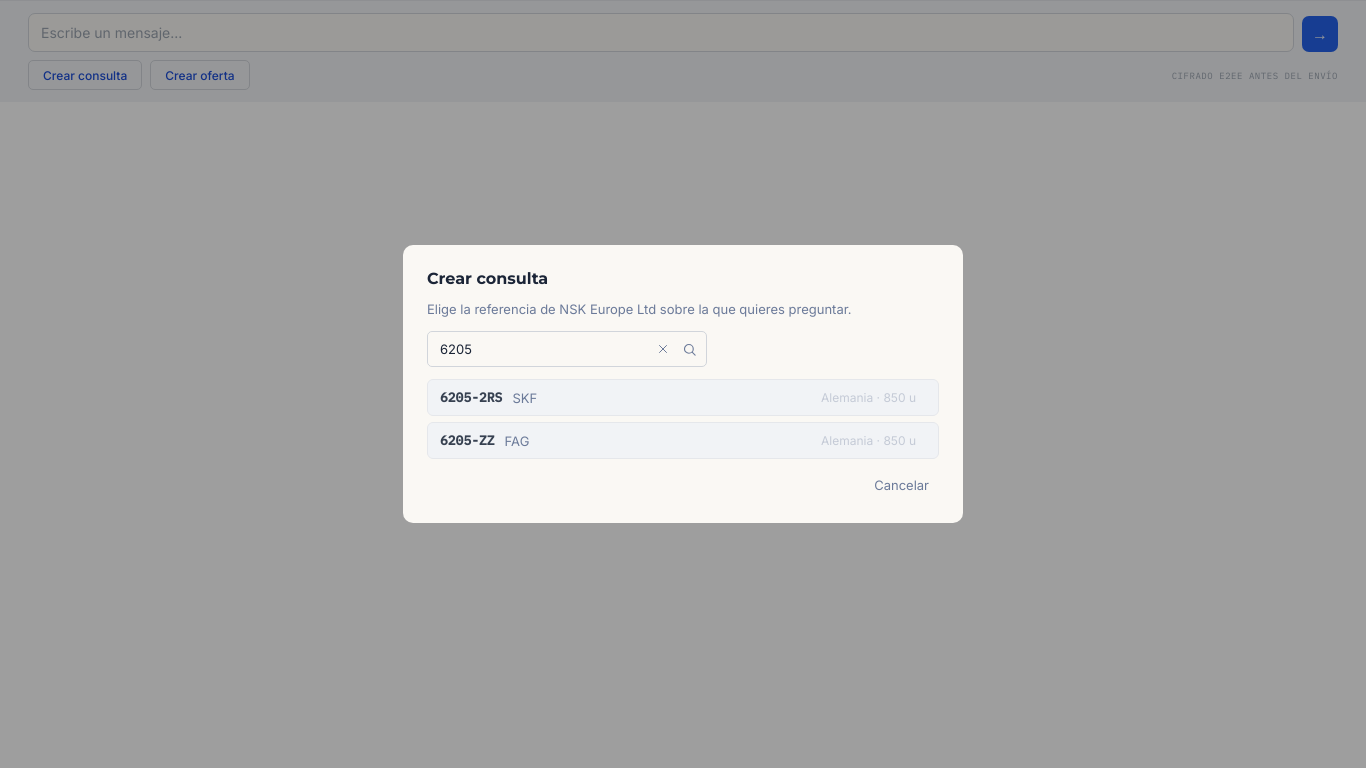
Test: VERA prepara una CONSULTA › con varias líneas que coinciden, NO elige: abre el selector con la búsqueda y la cantidad se conserva al elegir
Expected: the search field holds "6205", [427,331,707,367]
Expected: the dialog "Nueva tarjeta de consulta" is not shown
Click the button "6205-ZZ FAG Alemania · 850 u": (467, 441) [427,422,939,459]
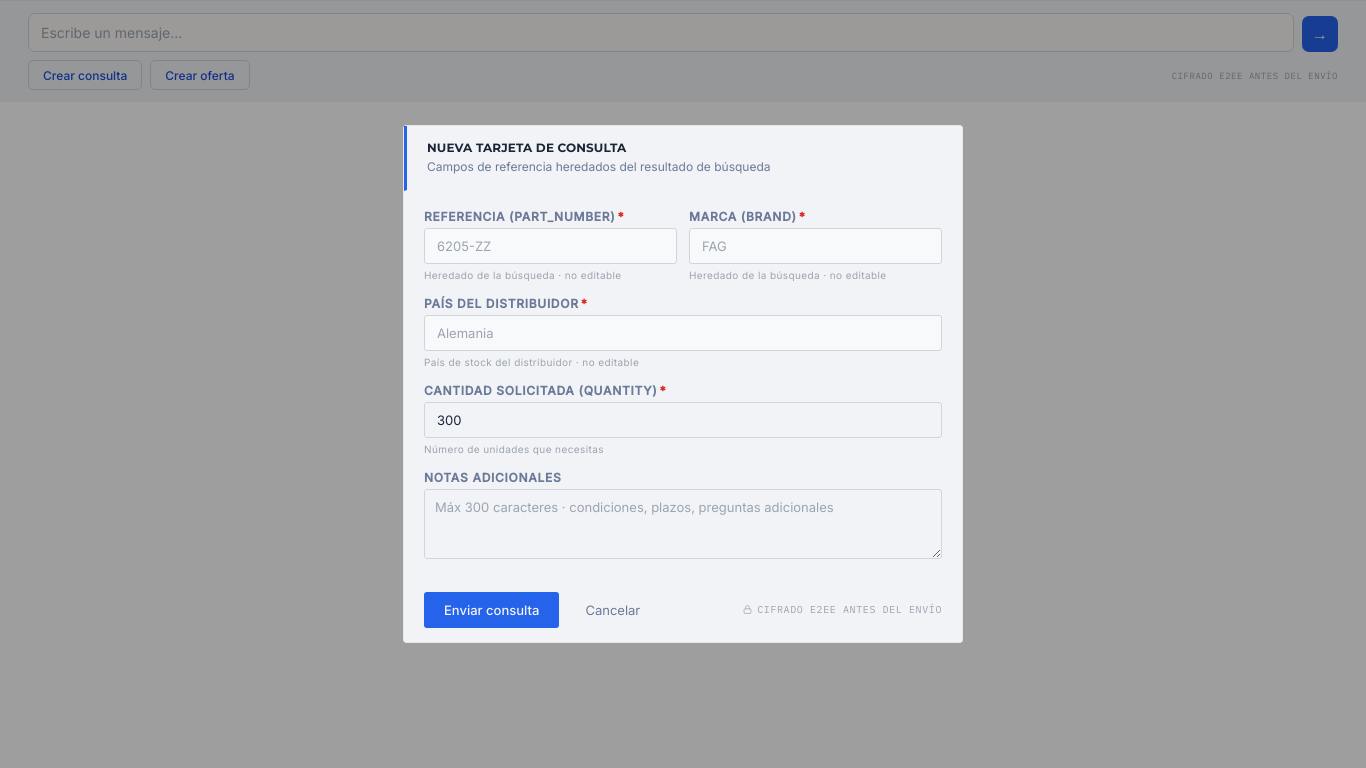
Expected: the field labelled "Referencia (part_number)*" holds "6205-ZZ", [424,228,677,264]
Expected: the number field labelled "Cantidad solicitada (quantity)*" holds "300", [424,402,942,438]
